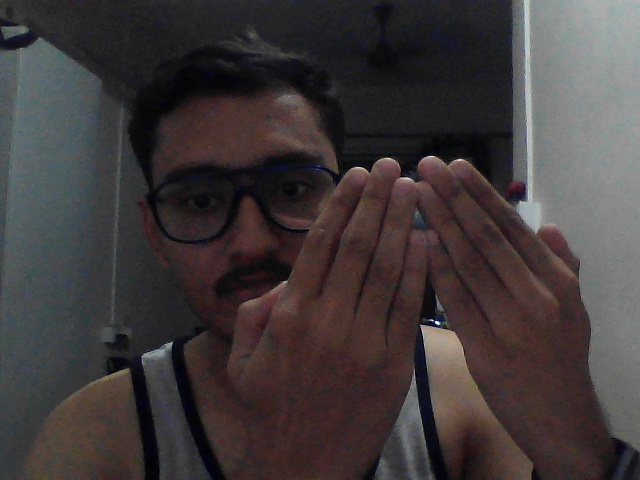Thank You: (217, 140, 634, 480)
